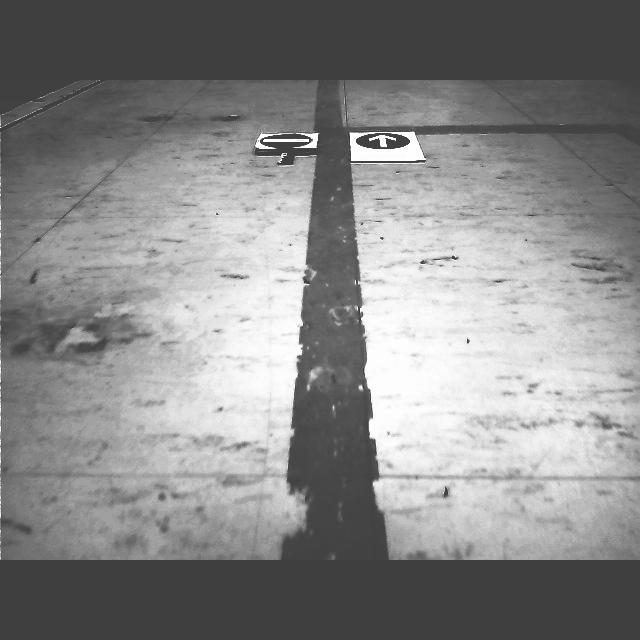GO FORWARD: (356, 133, 410, 149)
NO ENTRY: (260, 134, 312, 148)
